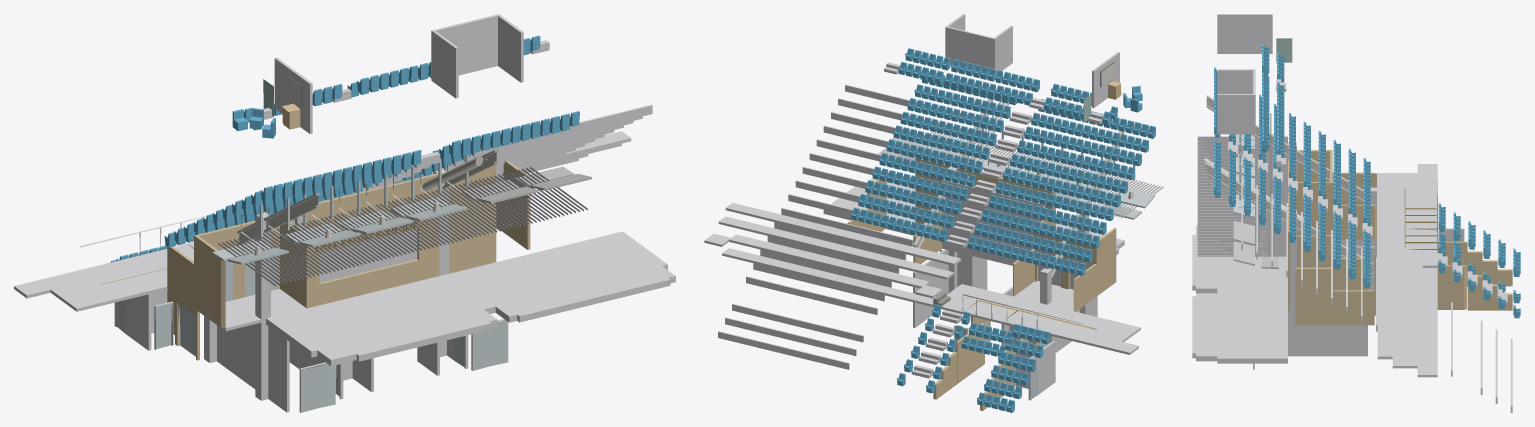
3 views of the same model, side by side, from view 1: azimuth 30°, elevation 25°; view 2: azimuth 150°, elevation 25°; view 3: azimuth 270°, elevation 25° (orthographic). The views are drawn at different scales.
Visible parts, largest first — view 1: Material0, Material5, Material8, Material6, Material2, Material7; view 2: Material0, Material8, Material5, Material6, Material2; view 3: Material0, Material8, Material5, Material2, Material7, Material6, Material4, Material12.
Boxes of the visible parts, x1=… form: Material0: x1=14, y1=14, x2=675, y2=412; Material5: x1=167, y1=160, x2=530, y2=360; Material8: x1=110, y1=35, x2=579, y2=262; Material6: x1=117, y1=154, x2=507, y2=412; Material2: x1=237, y1=149, x2=498, y2=255; Material7: x1=462, y1=166, x2=591, y2=203; Material0: x1=704, y1=14, x2=1163, y2=400; Material8: x1=851, y1=48, x2=1155, y2=412; Material5: x1=847, y1=158, x2=1116, y2=410; Material6: x1=941, y1=118, x2=1155, y2=398; Material2: x1=913, y1=99, x2=1133, y2=278; Material0: x1=1192, y1=14, x2=1512, y2=412; Material8: x1=1214, y1=44, x2=1520, y2=318; Material5: x1=1288, y1=150, x2=1512, y2=325; Material2: x1=1204, y1=95, x2=1372, y2=275; Material7: x1=1233, y1=221, x2=1278, y2=269; Material6: x1=1233, y1=113, x2=1461, y2=241; Material4: x1=1404, y1=188, x2=1437, y2=249; Material12: x1=1276, y1=38, x2=1292, y2=62.
Bounding box in the file's own units: 29.22 × 16.84 × 18.41.
